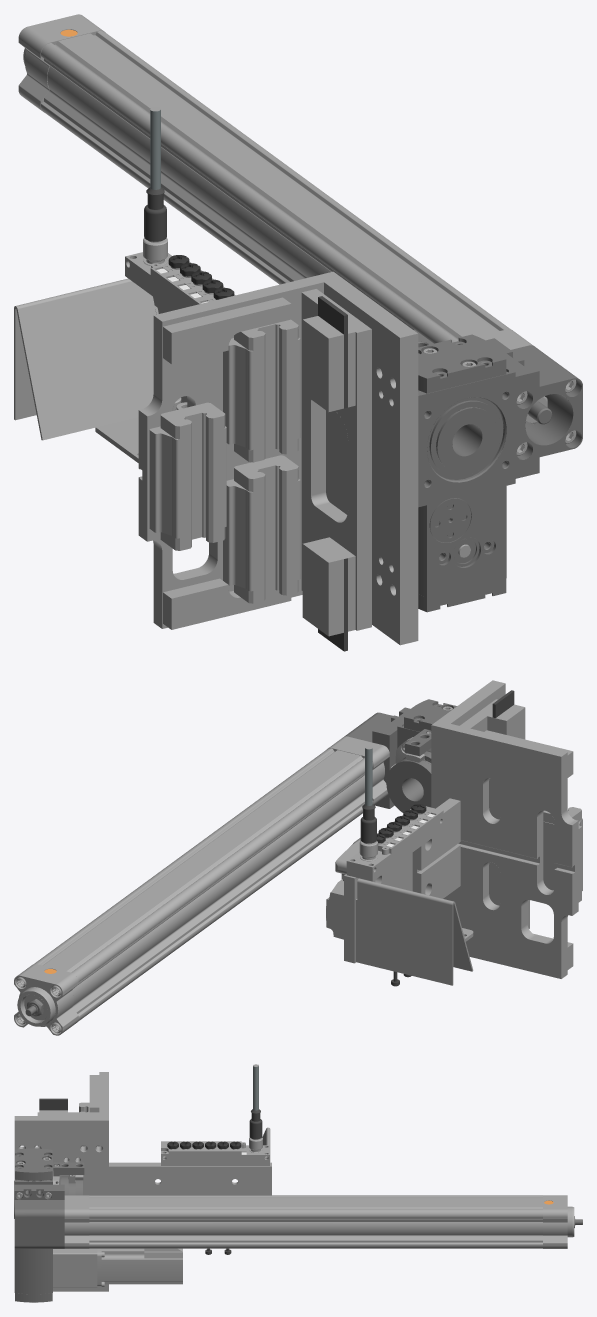
The picture shows the model from 3 angles, top to bottom: view 1: azimuth 30°, elevation 25°; view 2: azimuth 150°, elevation 25°; view 3: azimuth 270°, elevation 25°; orthographic projection. The views are drawn at different scales.
Parts seen in each view (by area): view 1: x.IGS; view 2: x.IGS; view 3: x.IGS.
Boxes of the visible parts, x1,y1,x2,y2 form: x.IGS: (14,14,582,651); x.IGS: (14,680,582,1035); x.IGS: (14,1064,582,1302).
Bounding box in the file's own units: 0.24 × 0.2539 × 0.5911.
Materials: 1 (1 with a texture image).
